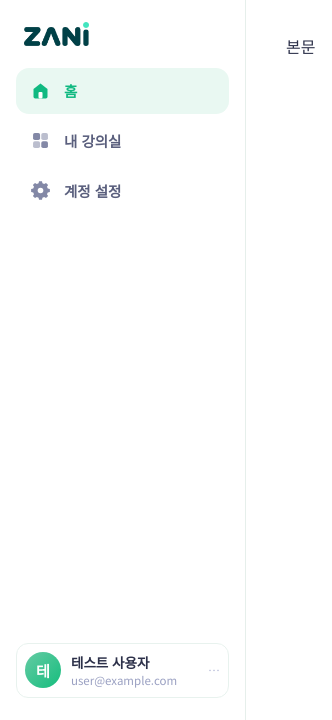
Test: AppShell 프로필 팝오버 › 바깥을 누르면 닫힌다
Click the button "테 테스트 사용자 user@example.com ⋯". click: x=122, y=670
box: x1=16 y1=642 x2=229 y2=698
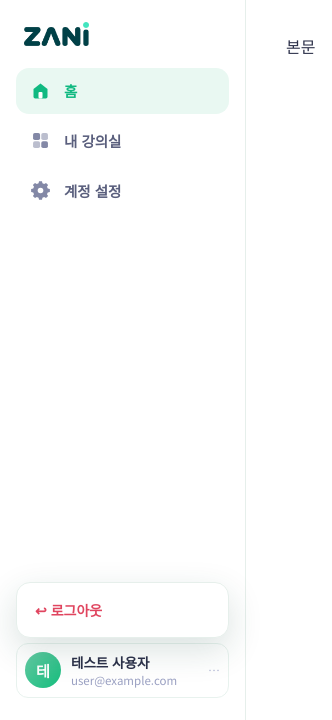
Press the mouse on the text "본문" at x=301, y=46, box x1=286 y1=34 x2=316 y2=58
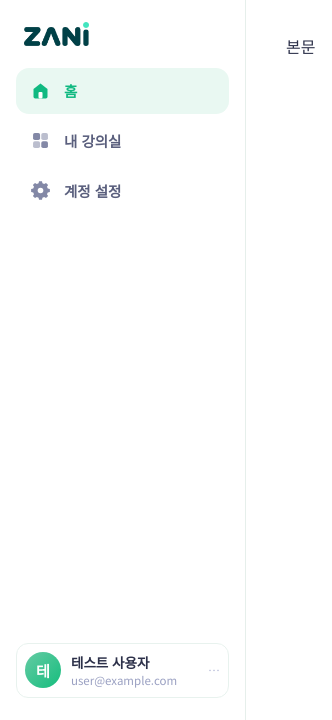
Check: the button "로그아웃" is gone
